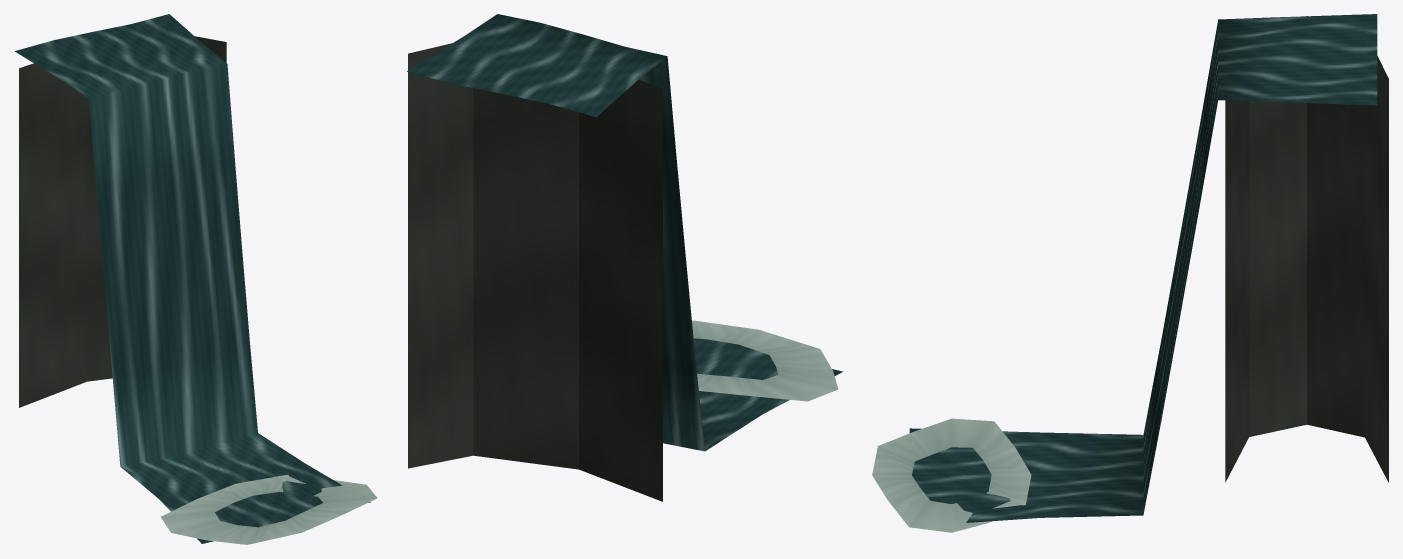
Rendered from fall-wide-lod1.glb.
3 renders of one model, left to right at view 1: azimuth 30°, elevation 25°; view 2: azimuth 150°, elevation 25°; view 3: azimuth 270°, elevation 25°, orthographic. The views are drawn at different scales.
Size of the model in its own units: 0.6087 by 1 by 1.11.
Materials: 1 (1 with a texture image).
